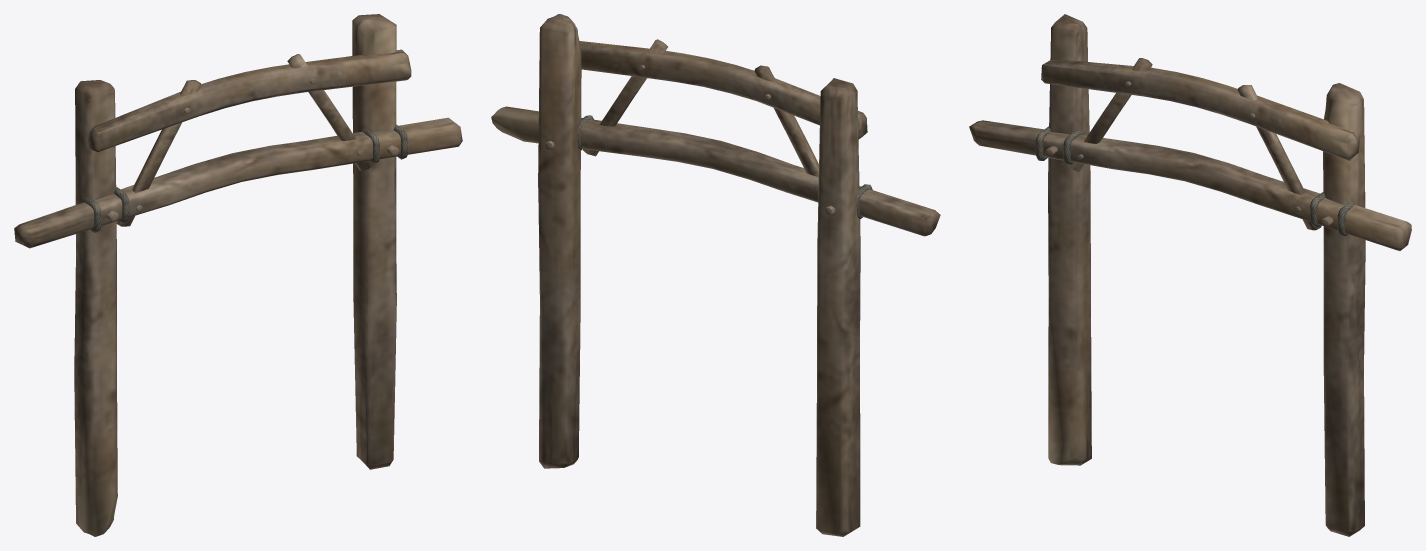
Rendered from t0_fencegate_crude_wooden1.glb.
3 renders of one model, left to right at view 1: azimuth 30°, elevation 25°; view 2: azimuth 150°, elevation 25°; view 3: azimuth 330°, elevation 25°, orthographic.
Parts seen in each view (by area): view 1: mines_props_mines_tunnelsupport_4m_01; view 2: mines_props_mines_tunnelsupport_4m_01; view 3: mines_props_mines_tunnelsupport_4m_01.
Part boxes in pixels (x1,y1,x2,y2): mines_props_mines_tunnelsupport_4m_01: [14, 14, 462, 536]; mines_props_mines_tunnelsupport_4m_01: [491, 14, 940, 536]; mines_props_mines_tunnelsupport_4m_01: [969, 14, 1411, 536].
Size of the model in its own units: 7.75 by 7.58 by 0.9262.
Materials: 3 (3 with a texture image).
